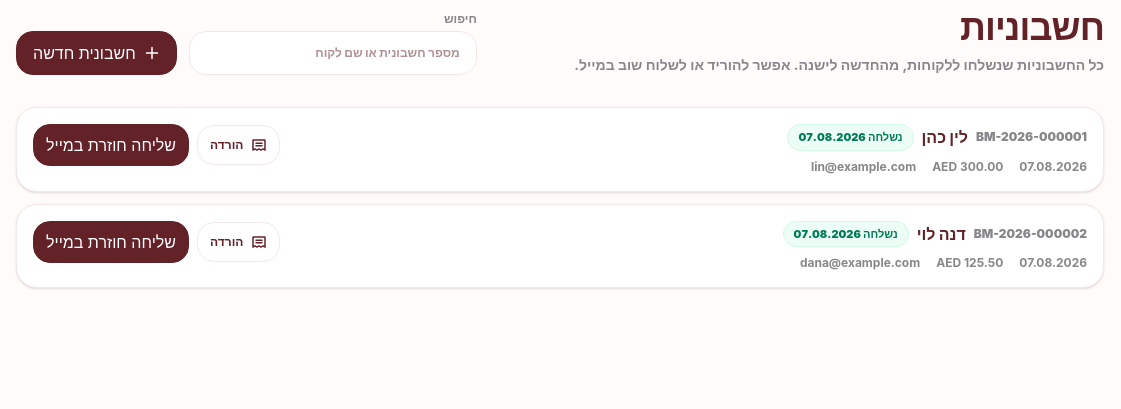
Test case: InvoicesScreen › reports an empty search without claiming there are no invoices at all
The width and height of the screenshot is (1121, 409).
Type "zzz" into the search field named "חיפוש חשבונית לפי מספר או שם" at (333, 53), box x1=189 y1=31 x2=477 y2=75
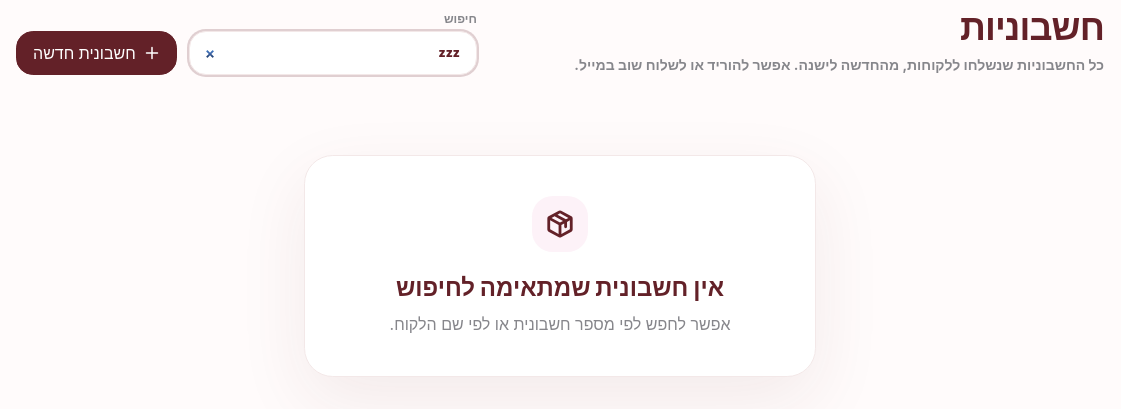
Expected: the heading "אין חשבונית שמתאימה לחיפוש" is shown, x1=396 y1=273 x2=724 y2=302
